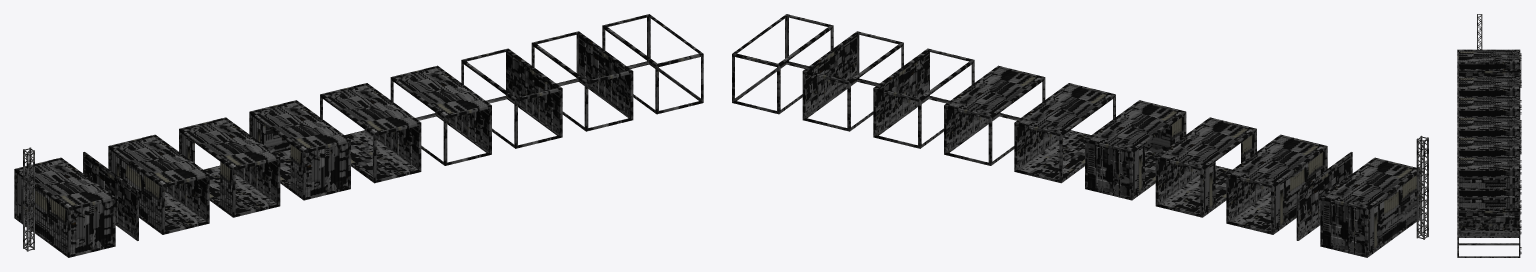
The model's file is All FBX.fbx.
The picture shows the model from 3 angles, left to right: view 1: azimuth 30°, elevation 25°; view 2: azimuth 150°, elevation 25°; view 3: azimuth 270°, elevation 25°; orthographic projection. The views are drawn at different scales.
Visible parts, largest first — view 1: Container_1, Container_4, Container_2, Container_3, Container_5, Container_6, Container_8, Container_7, Container_Plane, Container_9, Container_Construct; view 2: Container_1, Container_4, Container_2, Container_3, Container_5, Container_6, Container_7, Container_8, Container_Plane, Container_9, Container_Construct; view 3: Container_6, Container_8, Container_4, Container_5, Container_2, Container_7, Container_3, Container_1, Container_9, Container_Plane, Container_Construct.
Part boxes in pixels (x1,y1,x2,y2): Container_1: (14, 157, 115, 257); Container_4: (249, 100, 350, 200); Container_2: (108, 134, 209, 234); Container_3: (179, 117, 280, 217); Container_5: (320, 83, 421, 183); Container_6: (390, 65, 491, 165); Container_8: (531, 31, 633, 131); Container_7: (461, 48, 562, 148); Container_Plane: (83, 152, 138, 240); Container_9: (602, 14, 703, 114); Container_Construct: (23, 147, 34, 251); Container_1: (1320, 157, 1420, 257); Container_4: (1085, 100, 1186, 200); Container_2: (1226, 134, 1327, 234); Container_3: (1155, 117, 1256, 217); Container_5: (1014, 83, 1115, 183); Container_6: (944, 65, 1045, 165); Container_7: (873, 48, 974, 148); Container_8: (802, 31, 903, 131); Container_Plane: (1296, 152, 1352, 240); Container_9: (732, 14, 833, 114); Container_Construct: (1416, 135, 1428, 239); Container_6: (1457, 156, 1521, 194); Container_8: (1457, 196, 1521, 237); Container_4: (1457, 116, 1521, 154); Container_5: (1457, 136, 1521, 174); Container_2: (1457, 76, 1521, 114); Container_7: (1457, 176, 1521, 214); Container_3: (1457, 96, 1521, 133); Container_1: (1457, 49, 1521, 87); Container_9: (1457, 216, 1521, 257); Container_Plane: (1457, 69, 1520, 76); Container_Construct: (1477, 14, 1482, 49).
Size of what is drawn, in the model's own units: 2803 by 403 by 407.
